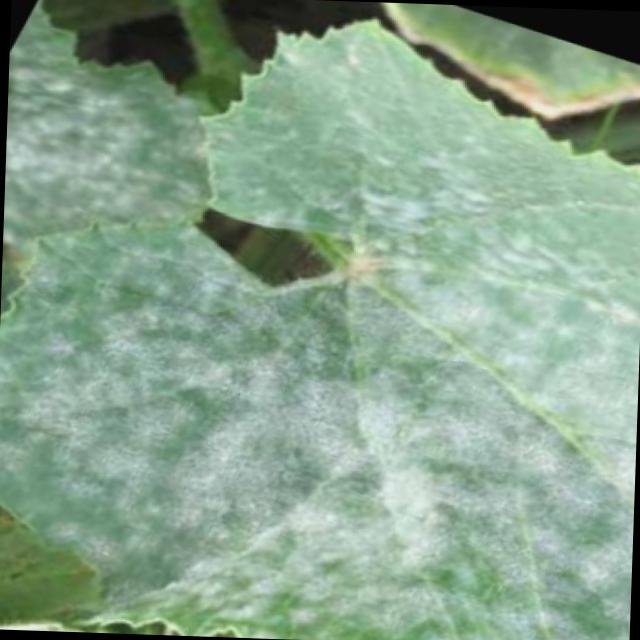Powdery_Mildew: (0, 0, 640, 640), (11, 260, 365, 575), (311, 133, 624, 443)
